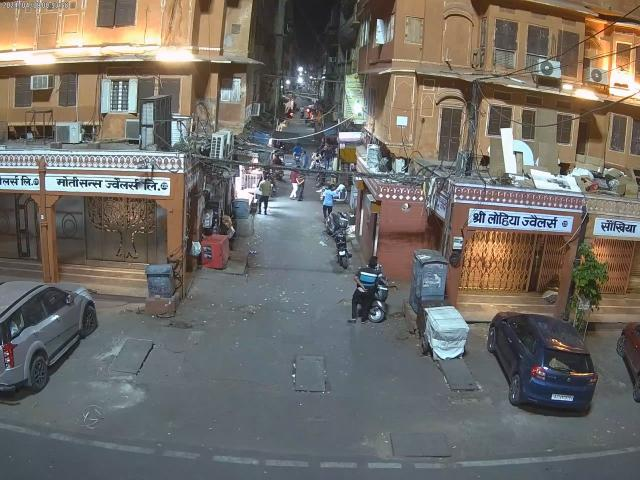car: (0, 280, 100, 404), (486, 307, 600, 413), (618, 316, 640, 418)
license_plate: (550, 394, 576, 402)
motorbike: (324, 210, 356, 272)
scooty: (348, 260, 389, 324)
